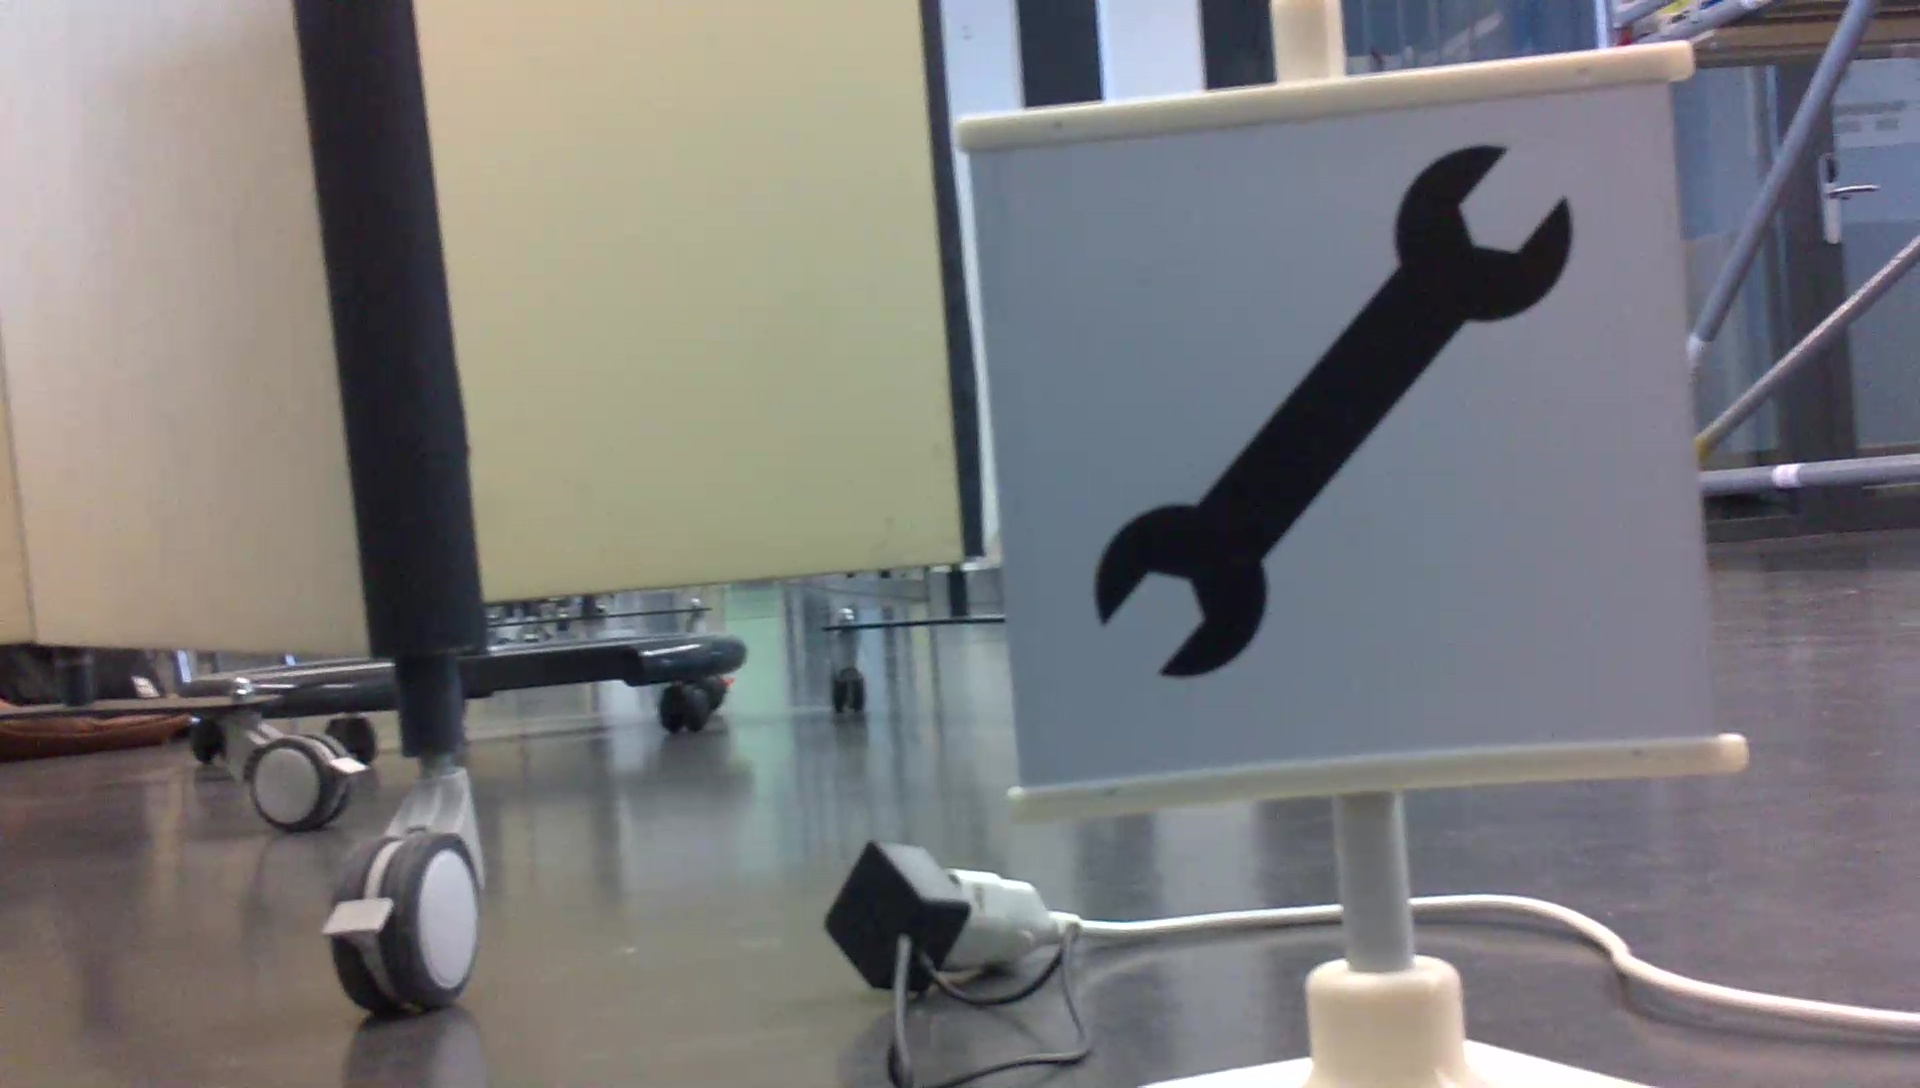wrench: (1080, 133, 1588, 686)
